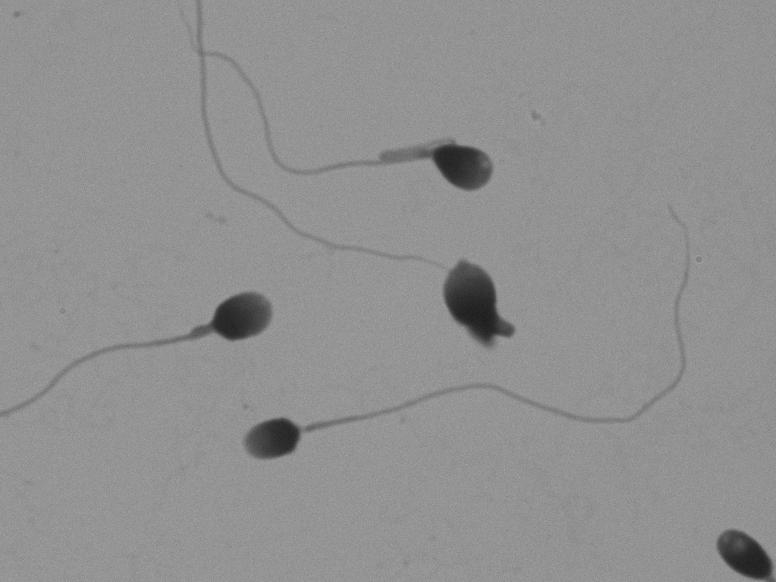Abnormal: (343, 234, 614, 375), (100, 268, 300, 411), (286, 101, 580, 197)
Normal: (226, 352, 684, 509)
